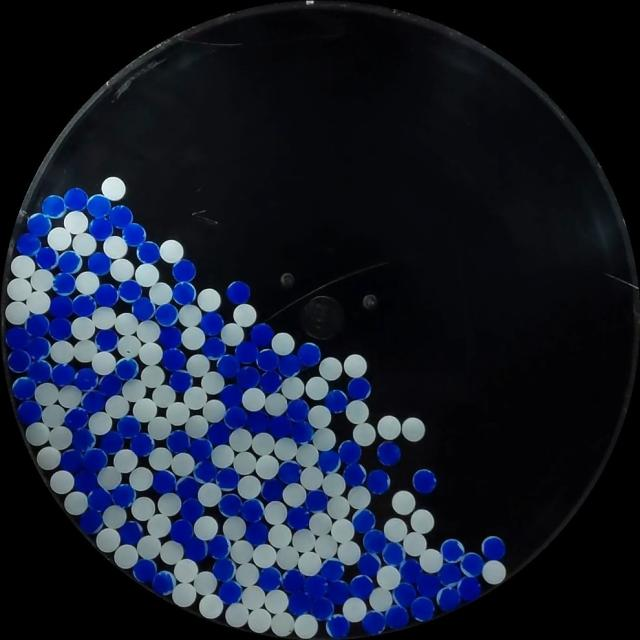pmmma-azul: (396, 554, 422, 586), (78, 508, 105, 534), (416, 572, 441, 599), (118, 520, 143, 546), (73, 468, 98, 494), (362, 528, 387, 554), (268, 414, 293, 440), (412, 468, 437, 494), (27, 359, 52, 384), (87, 487, 112, 512), (440, 538, 465, 563), (436, 586, 461, 611), (132, 558, 157, 583), (480, 536, 506, 560), (324, 580, 350, 604), (82, 448, 108, 472), (352, 508, 376, 534), (151, 570, 175, 596), (60, 448, 84, 474), (410, 595, 434, 621), (17, 400, 43, 424), (436, 562, 462, 586), (86, 194, 112, 218), (384, 604, 408, 630), (49, 316, 73, 341), (49, 295, 74, 319), (218, 579, 242, 604), (200, 311, 224, 336), (89, 216, 113, 241), (250, 322, 274, 347), (26, 313, 50, 338), (130, 432, 154, 457), (50, 362, 74, 387), (109, 205, 134, 229), (227, 280, 251, 305), (112, 483, 136, 508), (152, 469, 176, 494), (216, 353, 240, 378), (64, 407, 89, 431), (64, 187, 88, 212), (349, 575, 374, 599), (240, 498, 264, 523), (286, 398, 310, 423), (81, 389, 106, 413), (304, 574, 328, 599), (456, 576, 480, 601), (460, 552, 484, 577), (289, 419, 313, 444), (6, 326, 30, 351), (181, 536, 206, 560), (16, 233, 41, 257), (41, 194, 66, 218), (212, 558, 236, 583), (392, 582, 416, 607), (170, 519, 194, 544), (246, 409, 270, 434), (174, 474, 198, 499), (282, 568, 305, 594), (215, 467, 239, 491), (188, 438, 212, 462), (118, 280, 142, 304), (172, 281, 196, 305), (347, 376, 371, 400), (218, 493, 242, 517), (235, 340, 259, 364), (172, 258, 196, 282), (8, 348, 32, 372), (117, 415, 141, 439), (94, 283, 118, 307), (286, 506, 310, 530), (12, 376, 36, 400), (74, 367, 98, 391), (324, 389, 348, 413), (362, 610, 386, 634), (158, 326, 182, 350), (257, 566, 281, 590), (377, 441, 401, 465), (287, 588, 311, 612), (326, 614, 350, 638), (224, 405, 247, 430), (132, 296, 155, 321), (71, 294, 96, 317), (57, 251, 82, 274), (245, 521, 268, 546), (72, 427, 95, 452), (381, 541, 404, 566), (180, 497, 203, 522), (338, 439, 361, 464), (27, 336, 50, 361), (366, 469, 389, 494), (193, 460, 218, 483), (277, 353, 302, 376), (278, 460, 301, 484), (237, 365, 260, 389), (100, 430, 124, 453), (95, 328, 118, 352), (343, 462, 366, 486), (202, 336, 226, 359), (357, 552, 380, 576), (298, 342, 321, 366), (52, 272, 76, 295), (35, 246, 58, 270), (122, 223, 146, 246), (308, 596, 332, 619), (208, 535, 230, 560), (162, 347, 185, 370), (155, 303, 178, 326), (99, 374, 122, 397), (167, 430, 190, 453), (305, 489, 328, 512), (137, 241, 160, 264), (88, 252, 111, 275), (320, 559, 343, 582), (208, 422, 231, 445), (261, 478, 284, 501), (114, 358, 138, 380), (259, 370, 281, 394), (27, 214, 51, 236), (257, 348, 279, 372), (318, 450, 341, 472), (170, 371, 192, 393), (287, 595, 309, 617), (222, 384, 242, 408)
